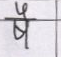ai_matra: (15, 2, 32, 18)
